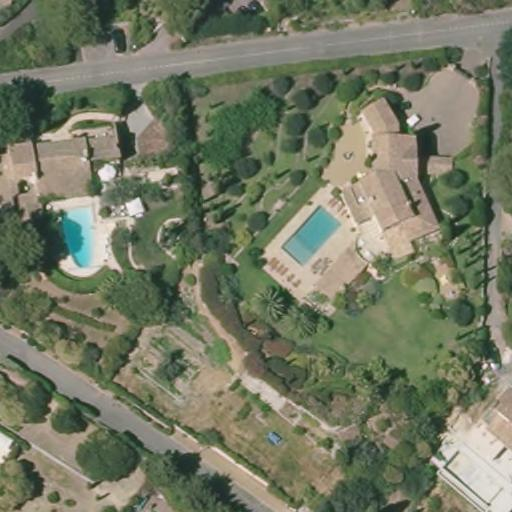pool: (278, 203, 342, 271), (50, 201, 103, 273)
